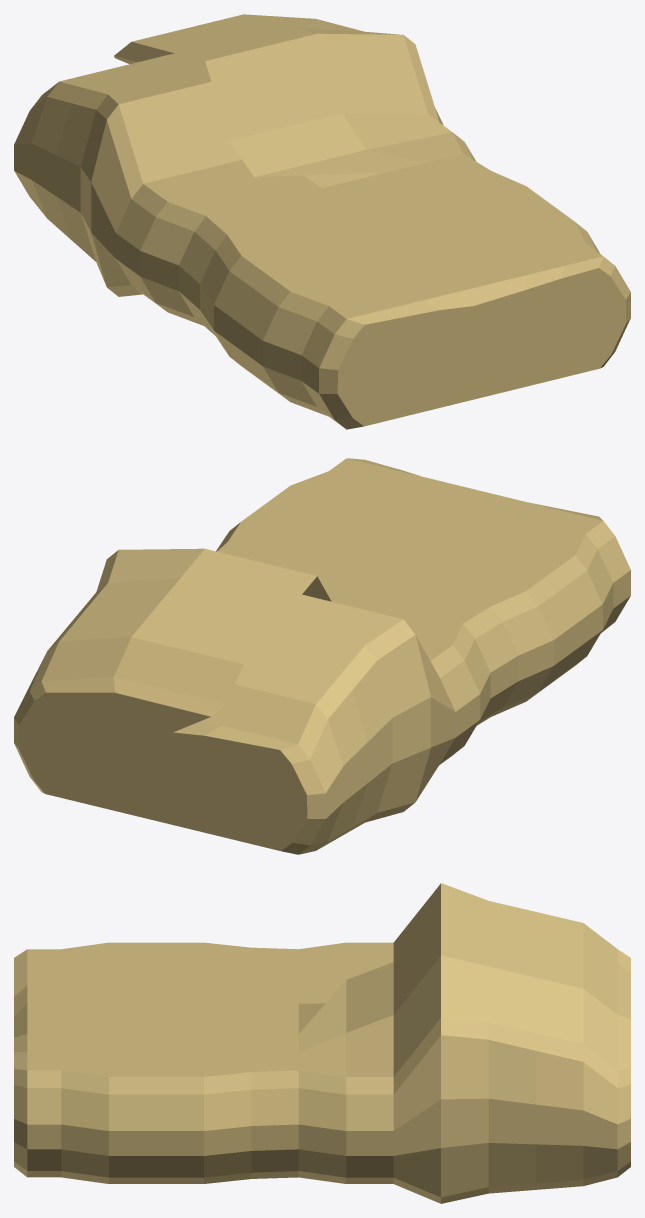
The model's file is tallow_scout_a.glb.
3 views of the same model, one above another, from view 1: azimuth 30°, elevation 25°; view 2: azimuth 150°, elevation 25°; view 3: azimuth 270°, elevation 25° (orthographic). The views are drawn at different scales.
Parts seen in each view (by area): view 1: tallow_scout_a; view 2: tallow_scout_a; view 3: tallow_scout_a.
Part boxes in pixels (x1,y1,x2,y2): tallow_scout_a: (14,14,630,429); tallow_scout_a: (14,458,630,854); tallow_scout_a: (14,883,630,1203).
Bounding box in the file's own units: 2.4 × 1.45 × 3.9.
